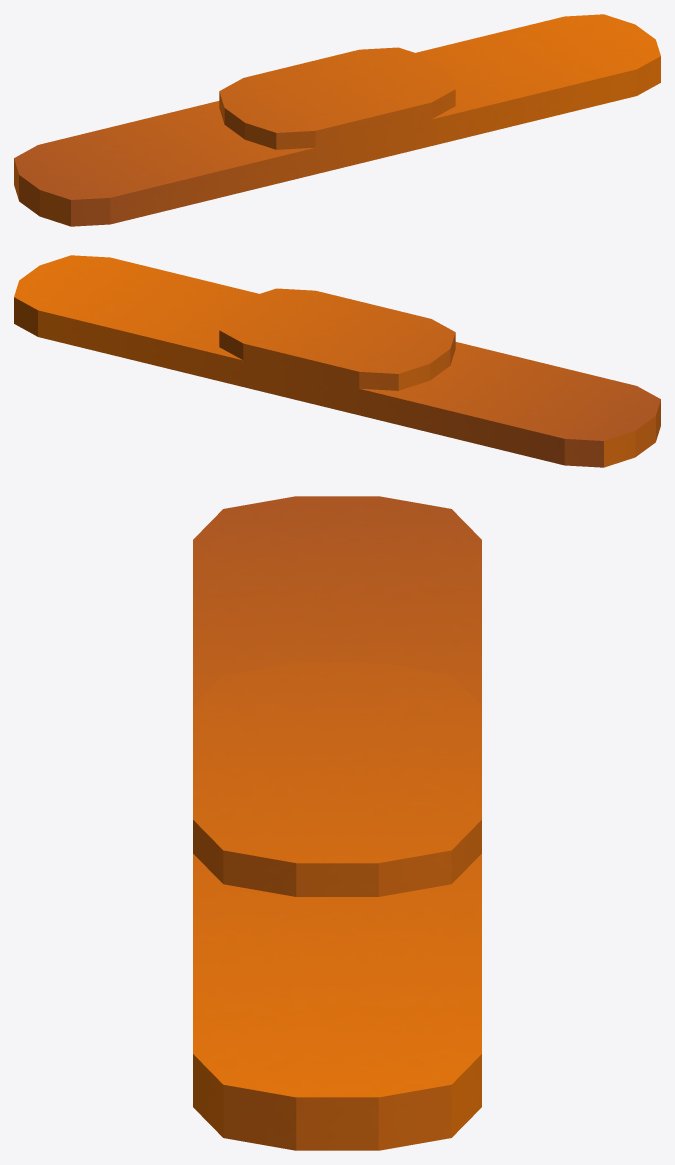
File: bandage.glb
3 renders of one model, top to bottom at view 1: azimuth 30°, elevation 25°; view 2: azimuth 150°, elevation 25°; view 3: azimuth 270°, elevation 25°, orthographic. The views are drawn at different scales.
Parts seen in each view (by area): view 1: bandage; view 2: bandage; view 3: bandage.
Part boxes in pixels (box(x1,y1,x2,y2)): bandage: box(14, 14, 660, 226); bandage: box(14, 255, 660, 467); bandage: box(193, 496, 481, 1150).
Bounding box in the file's own units: 1.04 × 0.0702 × 0.211.
1 material, 1 textured.
